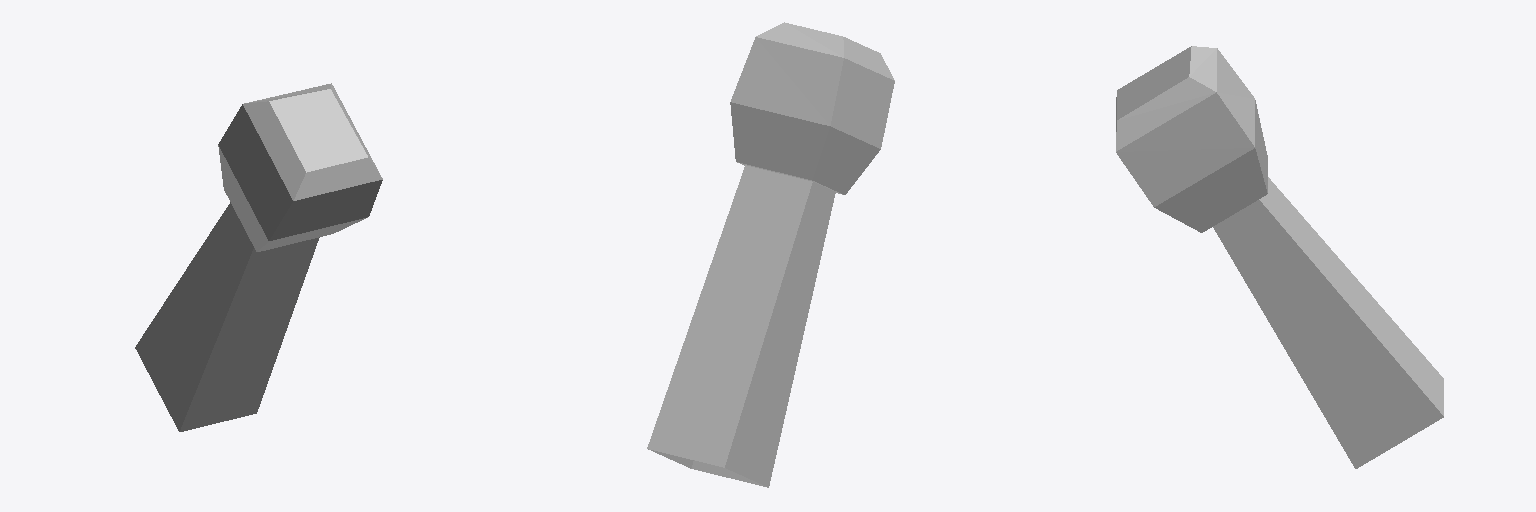
The model's file is LevelTop.obj.
3 renders of one model, left to right at view 1: azimuth 30°, elevation 25°; view 2: azimuth 150°, elevation 25°; view 3: azimuth 270°, elevation 25°, orthographic.
Parts seen in each view (by area): view 1: Lever; view 2: Lever; view 3: Lever.
Part boxes in pixels (x1,y1,x2,y2): Lever: (135, 83, 382, 431); Lever: (647, 22, 894, 487); Lever: (1116, 46, 1443, 468).
Size of the model in its own units: 0.057 by 0.2116 by 0.162.